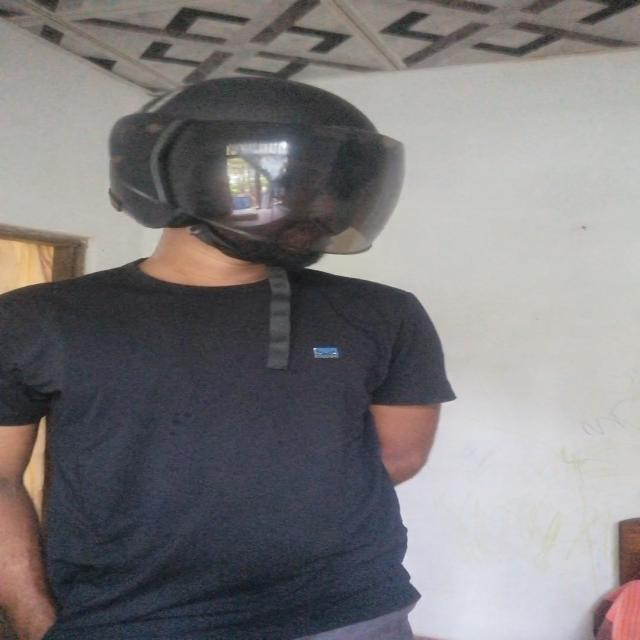Helmet_Wearer: (91, 73, 427, 304)
Person: (0, 68, 458, 640)
